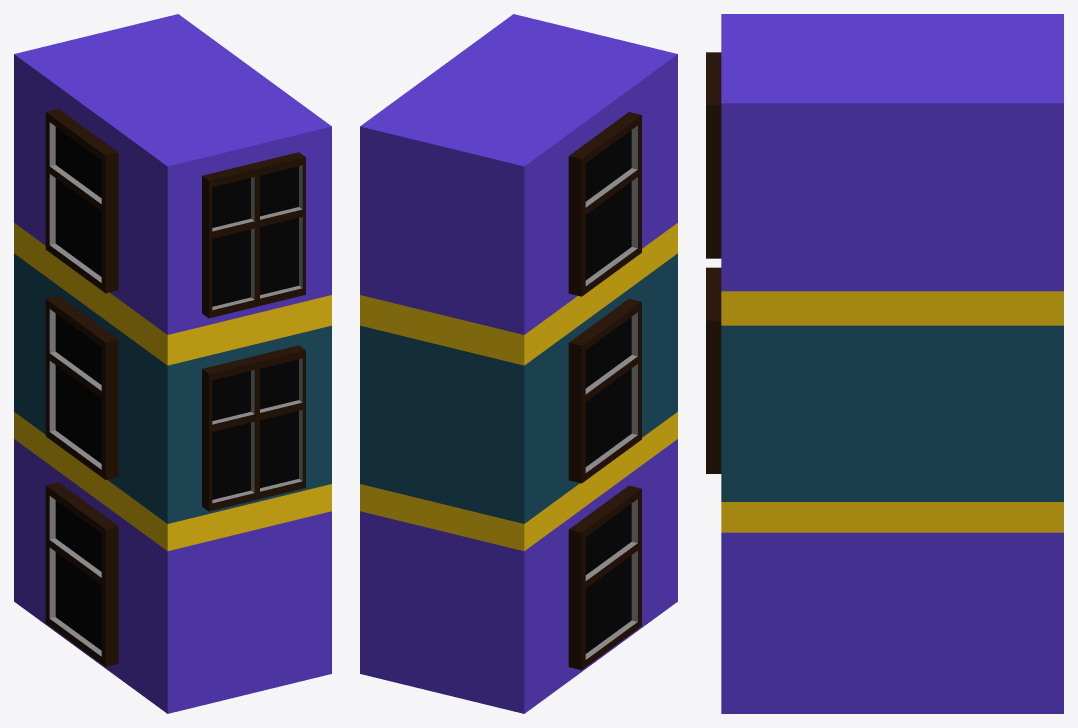
Rendered from buildingPart1.FBX.
3 renders of one model, left to right at view 1: azimuth 30°, elevation 25°; view 2: azimuth 150°, elevation 25°; view 3: azimuth 270°, elevation 25°, orthographic. The views are drawn at different scales.
Parts seen in each view (by area): view 1: Box001, Box018, Box017, Box016, Box012, Box014, Box013, Box015; view 2: Box001, Box017, Box018, Box016; view 3: Box001, Box015, Box013.
Boxes of the visible parts, x1,y1,x2,y2 form: Box001: (14, 14, 331, 713); Box018: (45, 108, 118, 293); Box017: (45, 295, 118, 479); Box016: (45, 482, 118, 666); Box012: (202, 357, 257, 511); Box014: (202, 164, 257, 318); Box013: (251, 345, 305, 499); Box015: (251, 152, 305, 306); Box001: (360, 14, 677, 713); Box017: (568, 298, 641, 483); Box018: (568, 112, 641, 296); Box016: (568, 485, 641, 670); Box001: (721, 14, 1063, 713); Box015: (706, 78, 721, 258); Box013: (706, 294, 721, 473).
Size of the model in its own units: 25.31 by 74.66 by 39.67.
